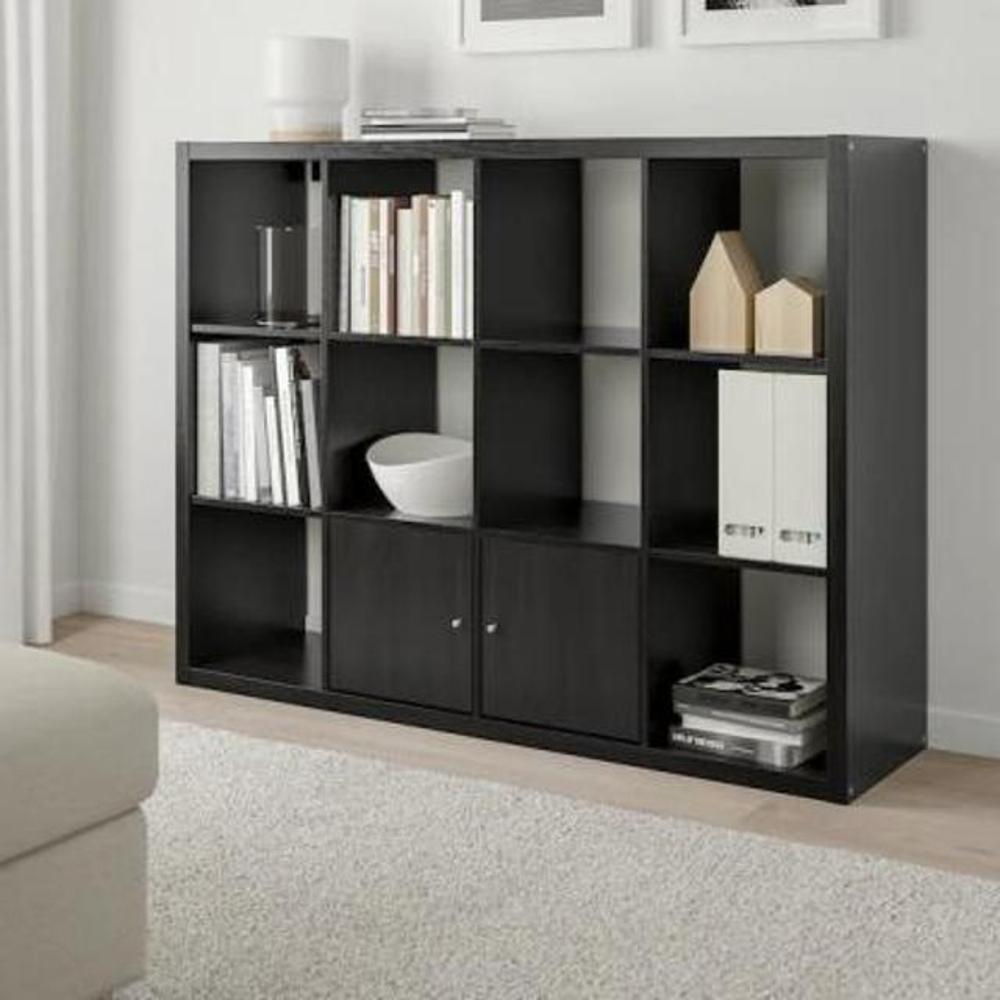lamp: (171, 136, 935, 811)
